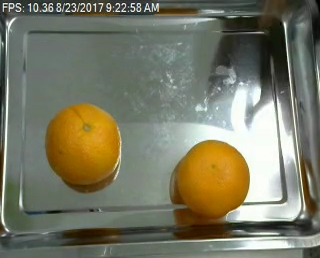Orange: (44, 102, 121, 186), (177, 139, 250, 217)
